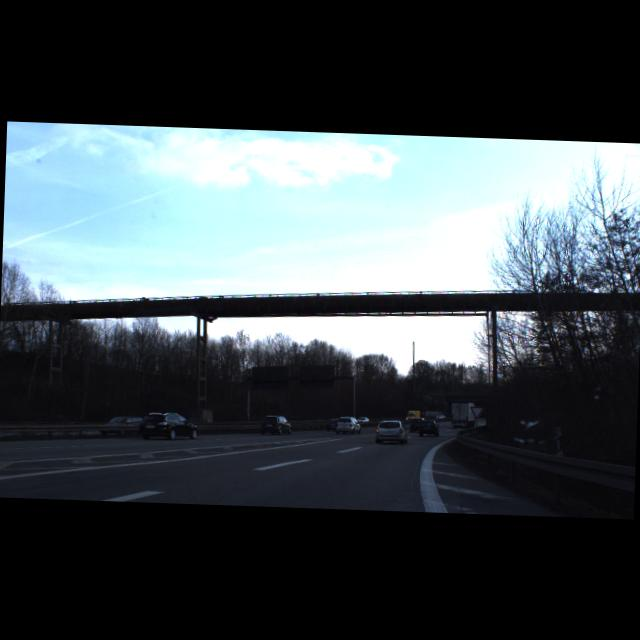other: (468, 405, 484, 420)
